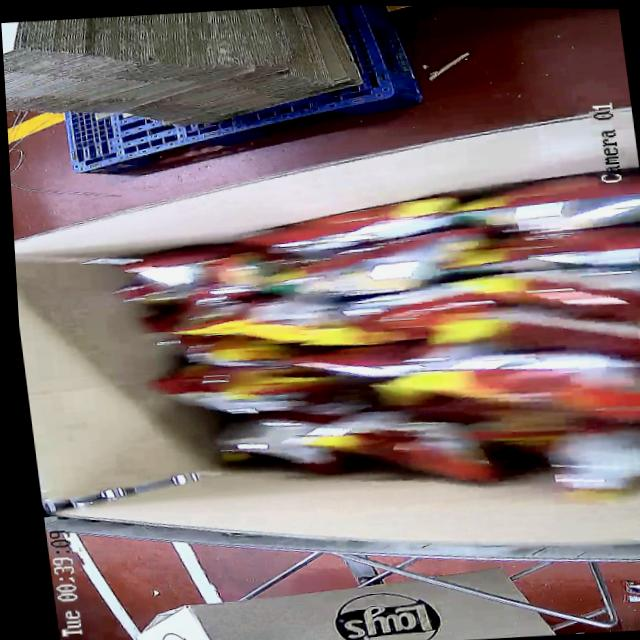MASALA: (78, 159, 640, 519)
